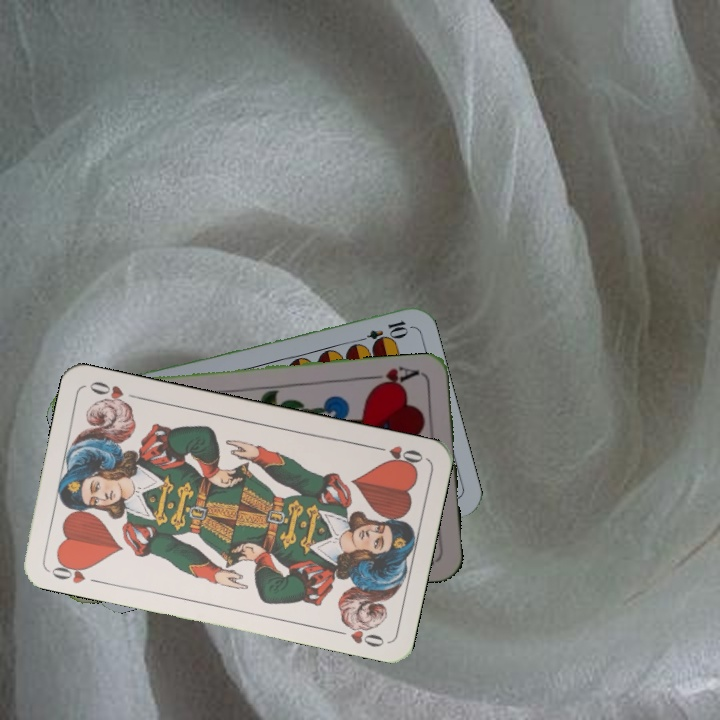E10: (352, 316, 411, 347)
HA: (365, 362, 424, 391)
HO: (368, 441, 426, 470), (45, 556, 94, 587)
